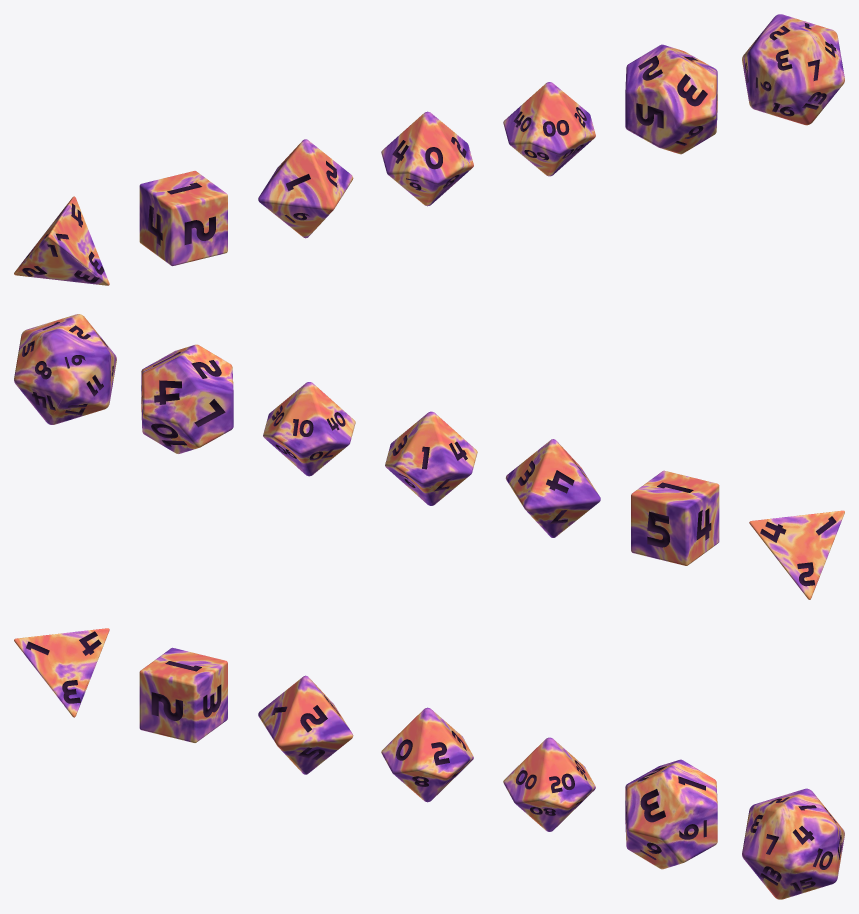
Rendered from sunset-swirl.glb.
3 views of the same model, one above another, from view 1: azimuth 30°, elevation 25°; view 2: azimuth 150°, elevation 25°; view 3: azimuth 330°, elevation 25° (orthographic).
Visible parts, largest first — view 1: d20, d12, d6, d100, d10, d8, d4; view 2: d20, d12, d6, d100, d10, d8, d4; view 3: d20, d12, d6, d8, d10, d100, d4.
Part boxes in pixels (x1,y1,x2,y2): d20: [742, 14, 844, 125]; d12: [625, 44, 717, 154]; d6: [139, 171, 227, 266]; d100: [503, 82, 595, 176]; d10: [381, 111, 473, 206]; d8: [258, 139, 353, 238]; d4: [14, 196, 109, 285]; d20: [14, 314, 116, 424]; d12: [141, 344, 233, 453]; d6: [631, 470, 719, 565]; d100: [263, 382, 355, 476]; d10: [385, 411, 477, 505]; d8: [505, 439, 600, 537]; d4: [749, 510, 844, 599]; d20: [742, 788, 844, 899]; d12: [625, 759, 717, 869]; d6: [139, 647, 227, 742]; d8: [258, 675, 353, 774]; d10: [381, 707, 473, 802]; d100: [503, 737, 595, 831]; d4: [14, 628, 109, 717].
Bounding box in the file's own units: 21.14 × 2.47 × 2.47.
14 materials, 7 textured.
